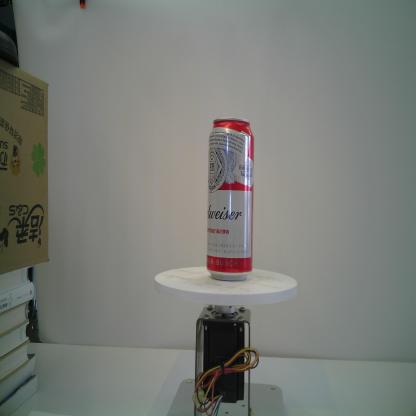Alcohol: (206, 118, 255, 282)
